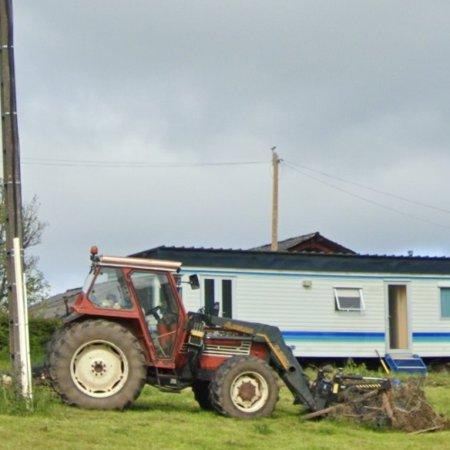tractors: (49, 257, 320, 418)
